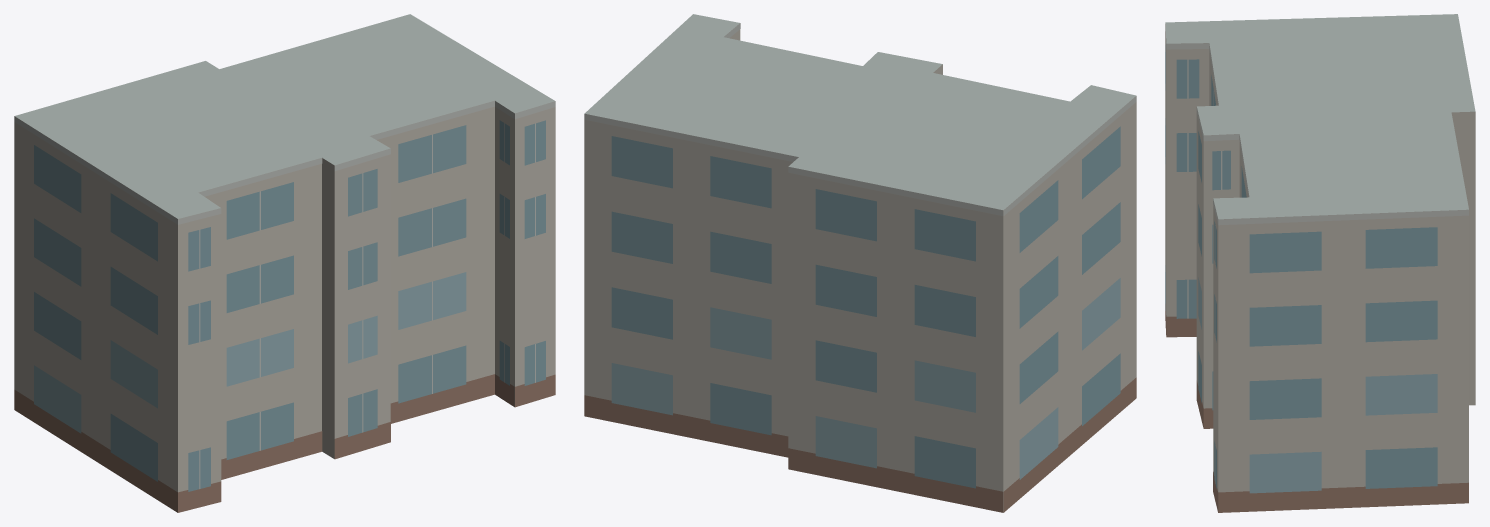
File: survey-upis-32735879.glb
3 renders of one model, left to right at view 1: azimuth 30°, elevation 25°; view 2: azimuth 150°, elevation 25°; view 3: azimuth 270°, elevation 25°, orthographic. The views are drawn at different scales.
Visible parts, largest first — view 1: survey-upis-32735879.tmp; view 2: survey-upis-32735879.tmp; view 3: survey-upis-32735879.tmp.
Boxes of the visible parts, x1,y1,x2,y2 form: survey-upis-32735879.tmp: (14, 14, 555, 512); survey-upis-32735879.tmp: (584, 14, 1136, 512); survey-upis-32735879.tmp: (1165, 14, 1475, 512).
Bounding box in the file's own units: 18.31 × 12.2 × 11.69.
